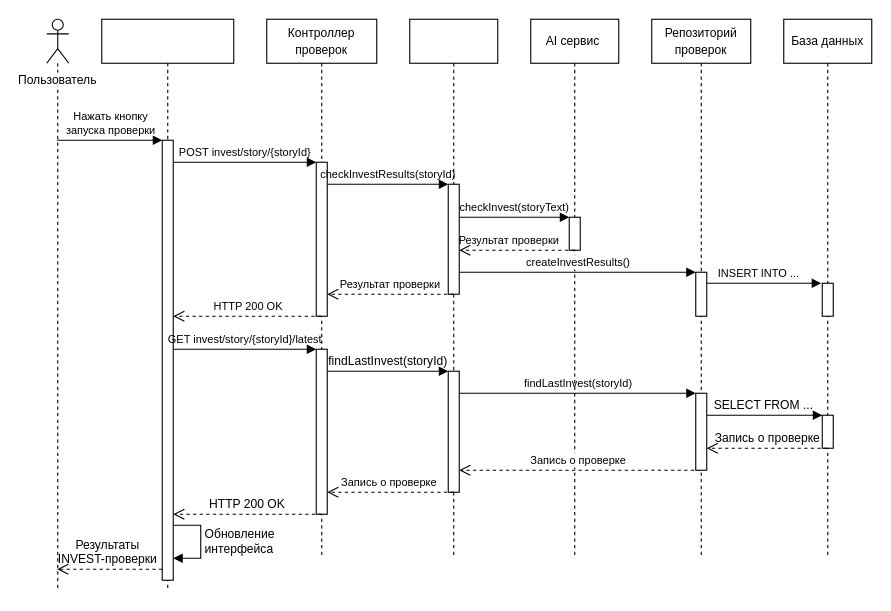
Image size: 891x611. Some labels were removed from this diagram. Each missing label, with the box of its shape:
Сервис проверок: (409, 18, 498, 558)
Страница детализации истории: (101, 18, 234, 591)
